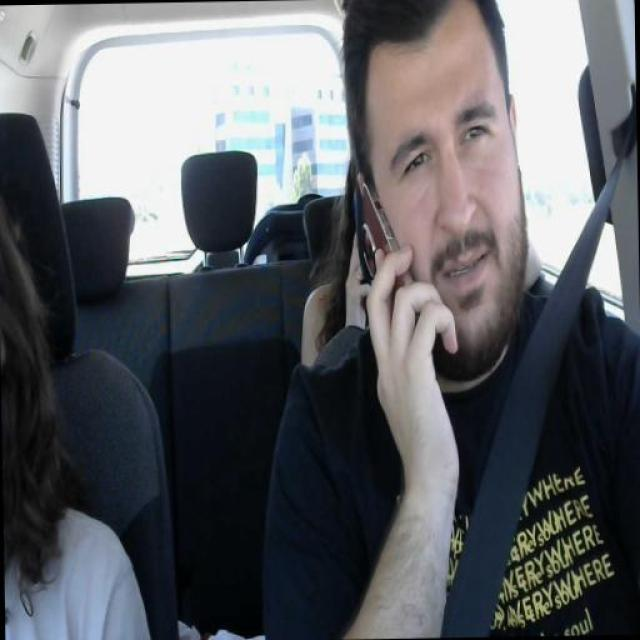phone: (348, 179, 419, 333)
